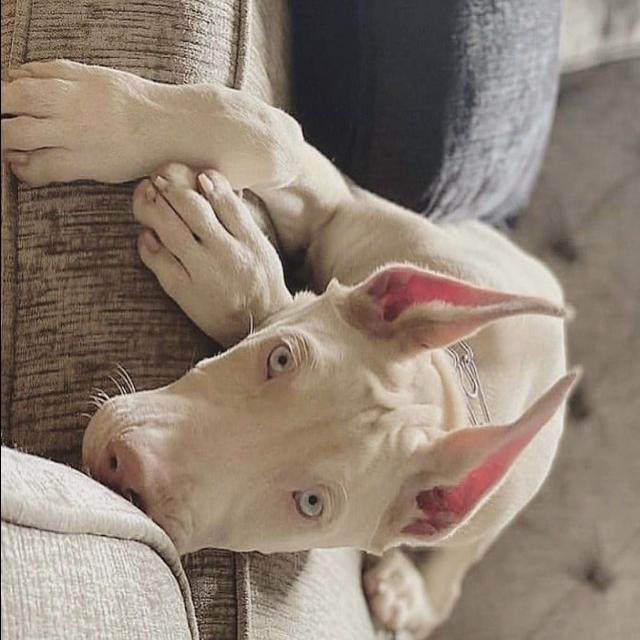Dogs: (0, 53, 589, 640)
